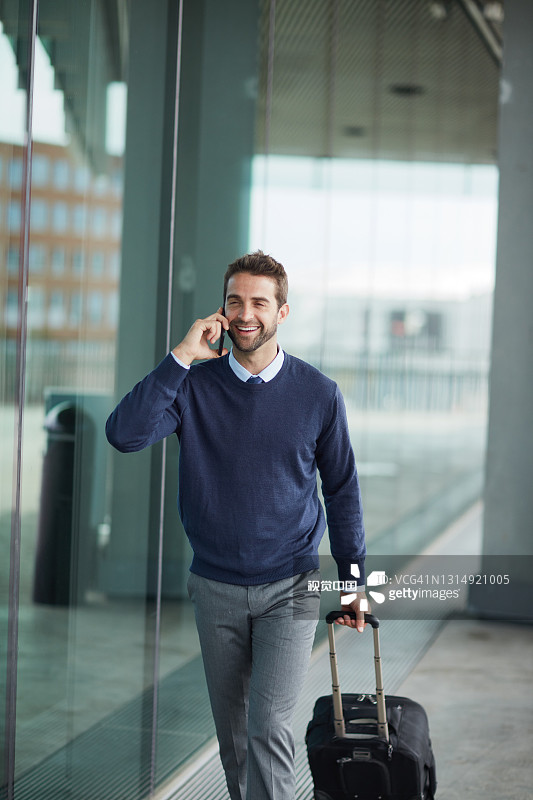calling: (169, 303, 232, 381)
